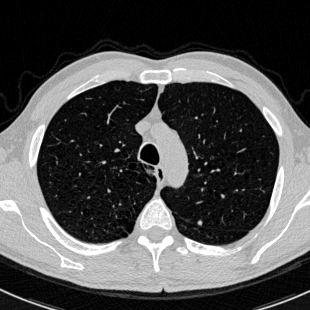nodule: (198, 221, 202, 225)
